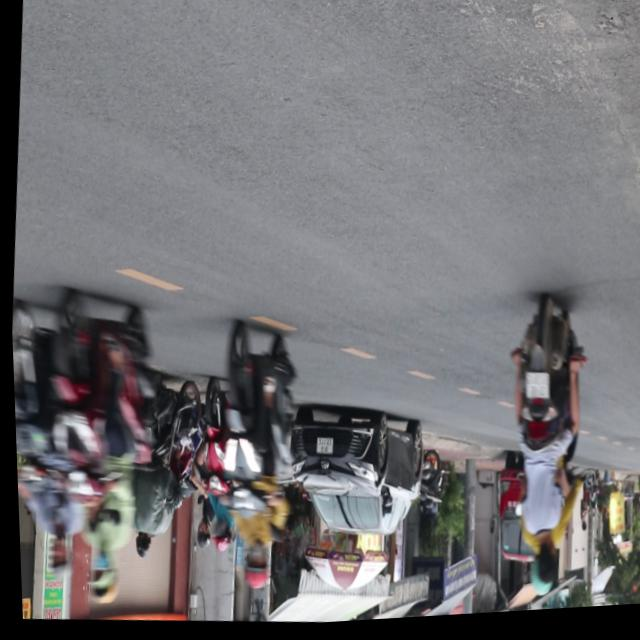helmet: (79, 547, 114, 604), (234, 545, 266, 594), (40, 535, 66, 581), (521, 565, 550, 603)
licenseplate: (8, 273, 173, 606), (486, 297, 594, 607), (196, 316, 309, 599)
motorcyclist: (523, 534, 555, 589)
nohelmet: (520, 377, 546, 406)
